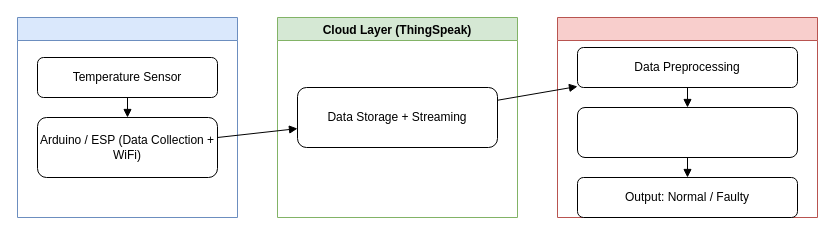
Some shapes in this 835 by 235 pixel diagram are drawn without their labels. The box of each missing label's shape, as (x1, y1, x2, y2) in pixels:
ANN Model (TensorFlow/Keras): (576, 106, 798, 158)
IoT Layer: (16, 16, 238, 218)
ML Layer: (556, 16, 818, 218)
